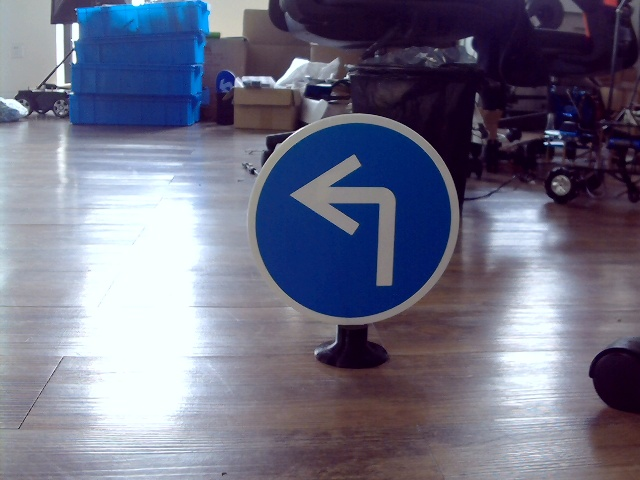turn_left: (290, 151, 406, 290)
